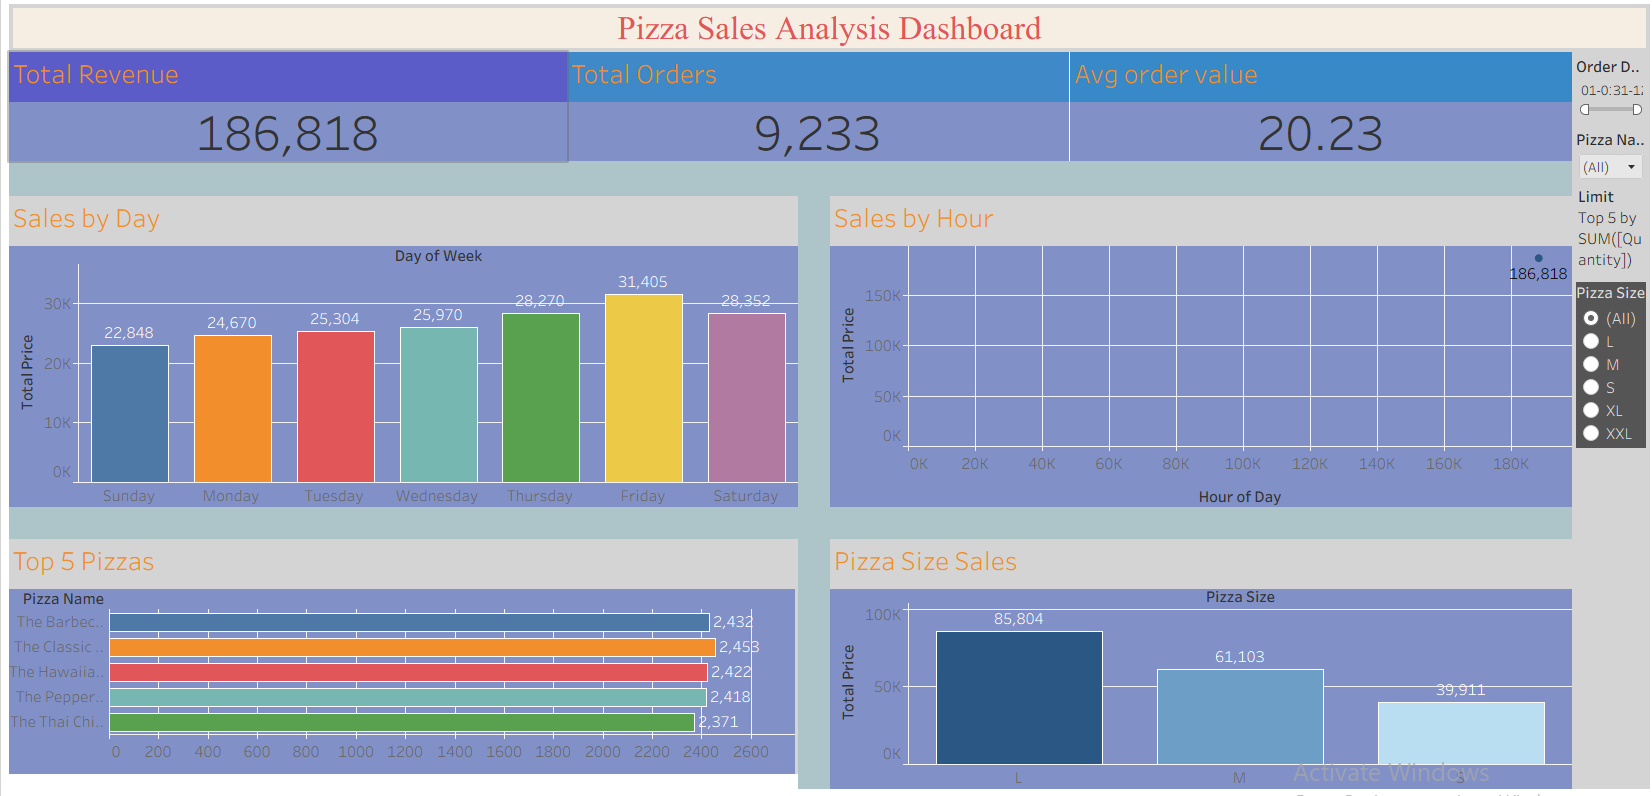

The dashboard page shown, as its layout file describes it:
{"tool":"tableau","page":{"name":"Pizza Sales Analysis Dashboard","canvas":[1000,1000],"units":"permille","ordinal":0},"visuals":[{"type":"text","box":[4.8,10,990.4,59.8]},{"type":"worksheet","title":"Total Revenue","mark":"Automatic","box":[4.8,69.8,337,136.4]},{"type":"worksheet","title":"Total Orders","mark":"Automatic","box":[341.8,69.8,303.3,136.4]},{"type":"worksheet","title":"Avg order value","mark":"Automatic","box":[645.1,69.8,303.3,136.4]},{"type":"filter","title":"Total Revenue","param":"[federated.0rpmg9y0f9tic017t39pd0navqap].[none:order_date:qk]","box":[948.4,69.8,46.8,91.1]},{"type":"filter","title":"Total Revenue","param":"[federated.0rpmg9y0f9tic017t39pd0navqap].[none:pizza_name:nk]","box":[948.4,160.9,46.8,191]},{"type":"blank","box":[4.8,206.2,943.6,43.5]},{"type":"worksheet","title":"Sales by Day","mark":"Bar","rows":["total_price"],"cols":["Calculation_0220226541813760"],"box":[4.8,249.7,476.1,388]},{"type":"blank","box":[480.9,249.7,19.8,740.3]},{"type":"worksheet","title":"Sales by Hour","mark":"Line","rows":["total_price"],"cols":["Calculation_0220226541944833"],"box":[500.7,249.7,447.7,388]},{"type":"filter","title":"Sales by Day","param":"[federated.0rpmg9y0f9tic017t39pd0navqap].[none:pizza_size:nk]","box":[948.4,351.9,46.8,217.2]},{"type":"blank","box":[4.8,637.7,476.1,40.1]},{"type":"blank","box":[500.7,637.7,447.7,40.1]},{"type":"worksheet","title":"Top 5 Pizzas","mark":"Bar","rows":["pizza_name"],"cols":["quantity"],"box":[4.8,677.8,476.1,293.4]},{"type":"worksheet","title":"Pizza Size Sales","mark":"Bar","rows":["total_price"],"cols":["pizza_size"],"box":[500.7,677.8,447.7,312.2]}]}

Visuals, with their boxes on the dashboard's canvas, which has no fixed pixel size, in thousandths of its width and height (x1, y1, x2, y2). These are canvas units, not pixel positions in the 1652x796 screenshot, which may show the page scaled, cropped or inside an application window:
text: bbox=(5, 10, 995, 70)
"Total Revenue" worksheet: bbox=(5, 70, 342, 206)
"Total Orders" worksheet: bbox=(342, 70, 645, 206)
"Avg order value" worksheet: bbox=(645, 70, 948, 206)
"Total Revenue" filter: bbox=(948, 70, 995, 161)
"Total Revenue" filter: bbox=(948, 161, 995, 352)
blank: bbox=(5, 206, 948, 250)
"Sales by Day" worksheet (Bar marks): bbox=(5, 250, 481, 638)
blank: bbox=(481, 250, 501, 990)
"Sales by Hour" worksheet (Line marks): bbox=(501, 250, 948, 638)
"Sales by Day" filter: bbox=(948, 352, 995, 569)
blank: bbox=(5, 638, 481, 678)
blank: bbox=(501, 638, 948, 678)
"Top 5 Pizzas" worksheet (Bar marks): bbox=(5, 678, 481, 971)
"Pizza Size Sales" worksheet (Bar marks): bbox=(501, 678, 948, 990)
